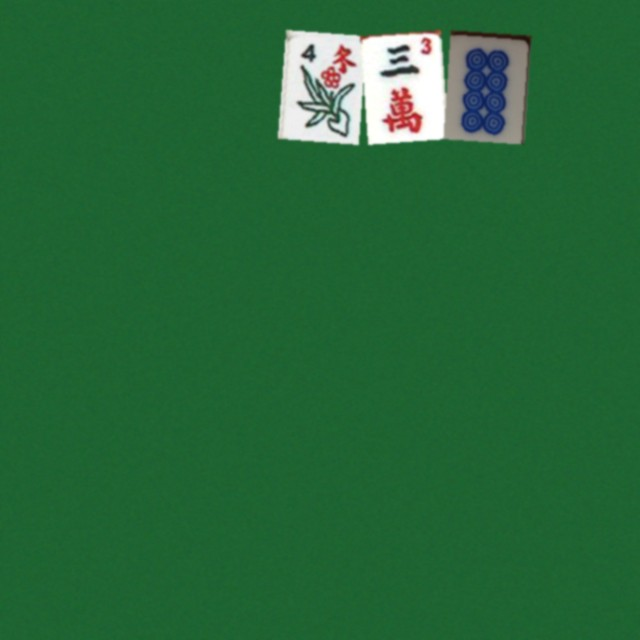tile: (277, 30, 358, 139), (360, 30, 441, 139), (443, 30, 524, 139)
